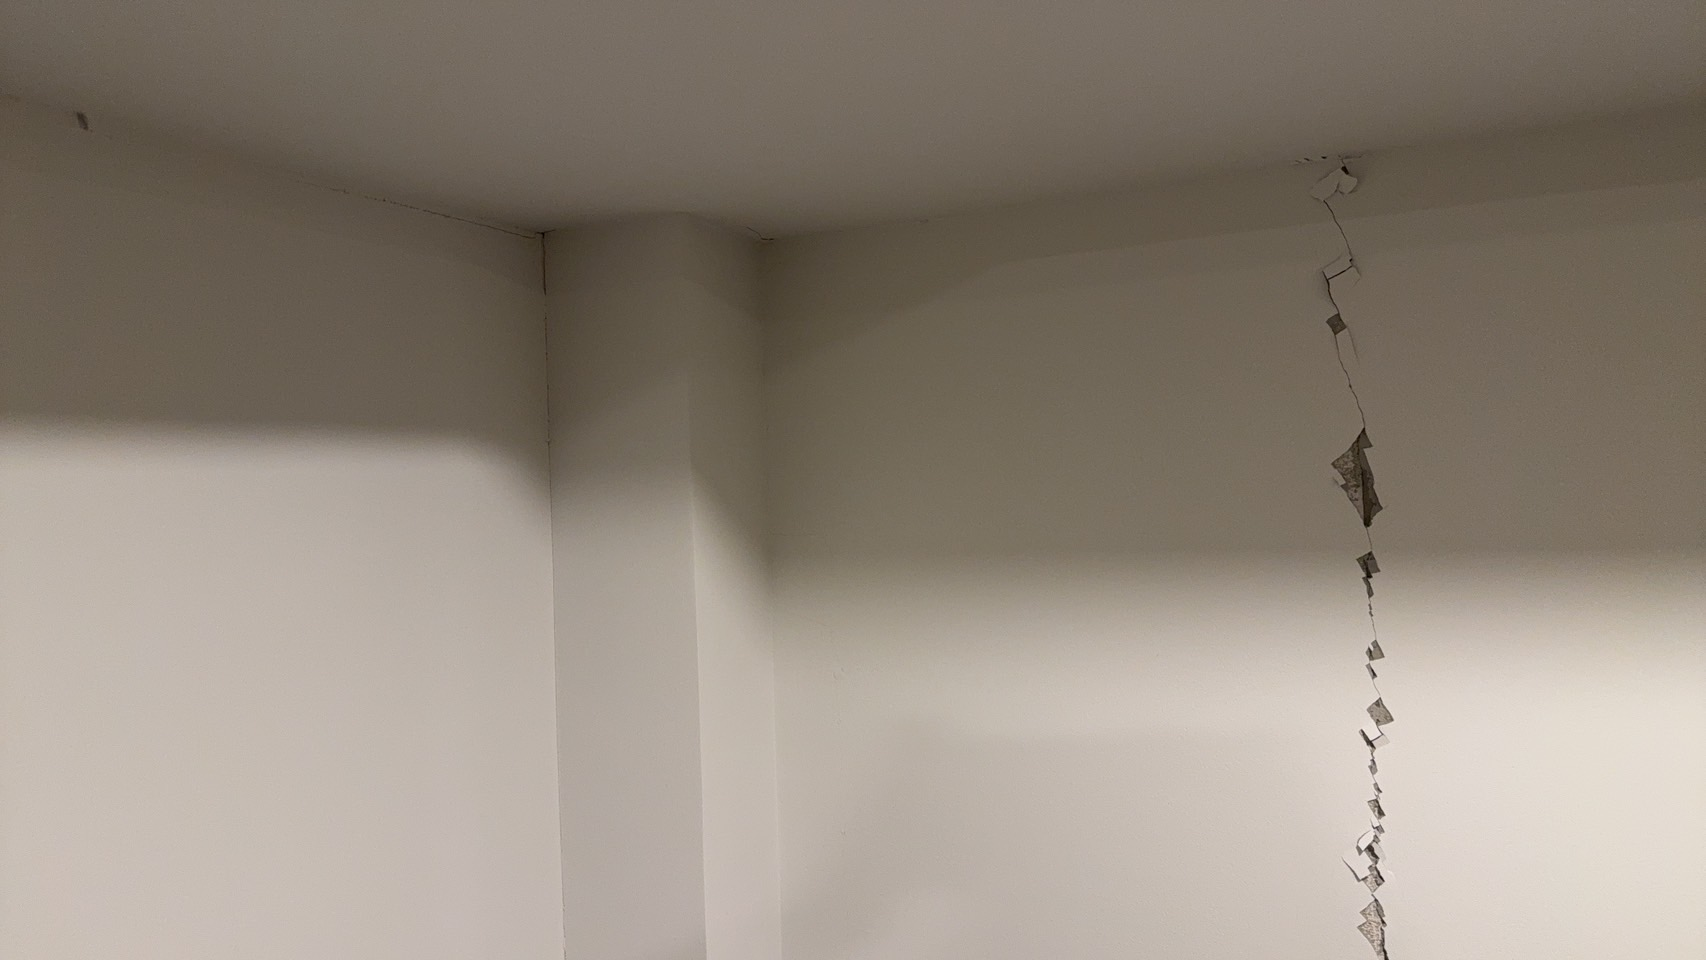Low: (1265, 139, 1442, 960)
